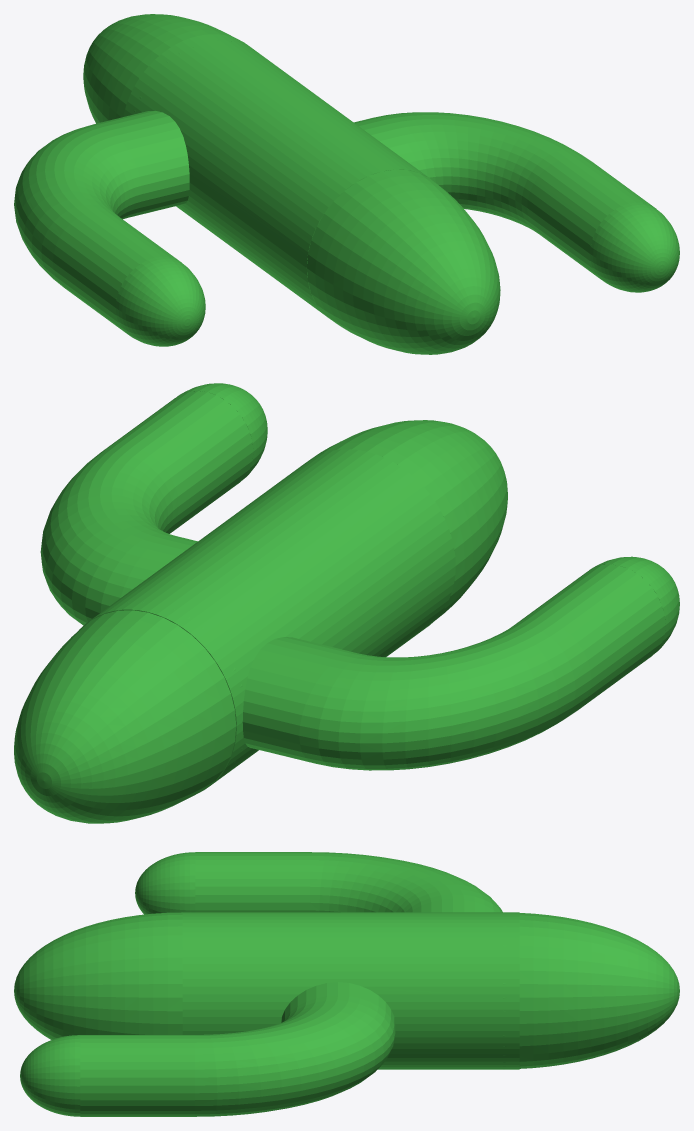
The model's file is tinker.obj.
3 renders of one model, top to bottom at view 1: azimuth 30°, elevation 25°; view 2: azimuth 150°, elevation 25°; view 3: azimuth 270°, elevation 25°, orthographic. The views are drawn at different scales.
Parts seen in each view (by area): view 1: obj_0; view 2: obj_0; view 3: obj_0.
Part boxes in pixels (left/top/right/bottom): obj_0: left=14, top=14, right=679, bottom=354; obj_0: left=14, top=383, right=679, bottom=823; obj_0: left=14, top=852, right=679, bottom=1116.
Size of the model in its own units: 10.05 by 3.07 by 13.
